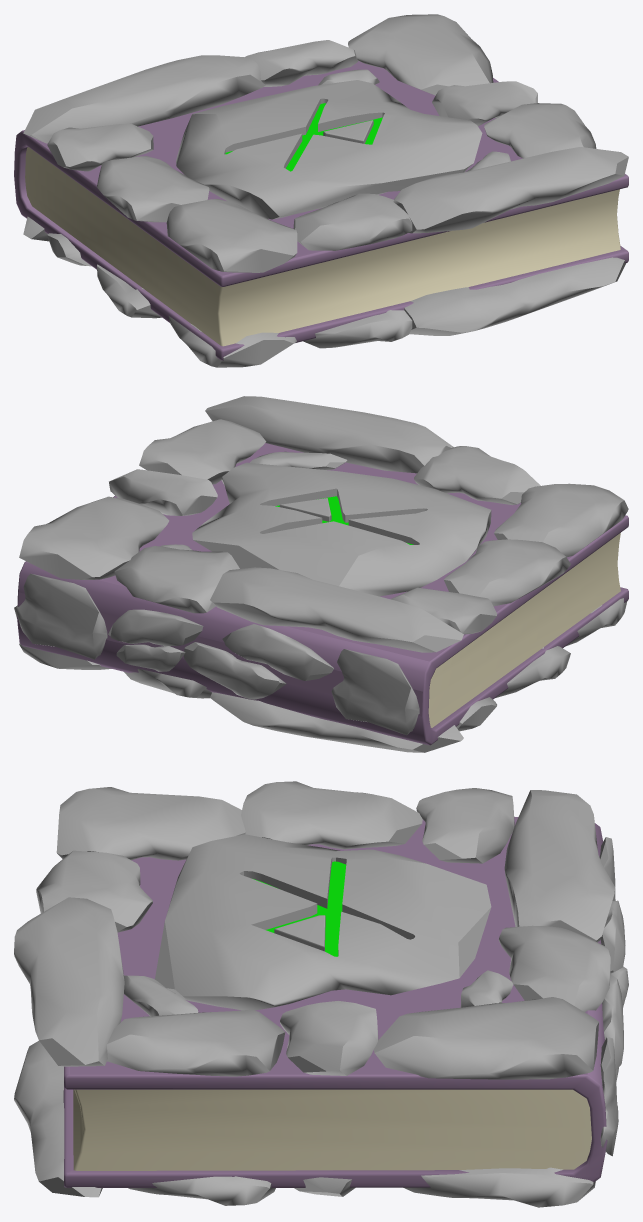
Rendered from Grimoire_close.fbx.
The picture shows the model from 3 angles, top to bottom: view 1: azimuth 30°, elevation 25°; view 2: azimuth 150°, elevation 25°; view 3: azimuth 270°, elevation 25°; orthographic projection. The views are drawn at different scales.
Parts seen in each view (by area): view 1: polySurface30, polySurface2, polySurface3, pCube2; view 2: polySurface30, polySurface3, polySurface2; view 3: polySurface30, polySurface2, polySurface3, pCube2.
Part boxes in pixels (x1=…): polySurface30: x1=23, y1=14, x2=628, y2=367; polySurface2: x1=25, y1=147, x2=620, y2=346; polySurface3: x1=14, y1=61, x2=628, y2=360; pCube2: x1=225, y1=103, x2=382, y2=171; polySurface30: x1=14, y1=396, x2=628, y2=752; polySurface3: x1=17, y1=443, x2=628, y2=745; polySurface2: x1=428, y1=533, x2=620, y2=727; polySurface30: x1=14, y1=781, x2=628, y2=1207; polySurface2: x1=73, y1=1089, x2=591, y2=1170; polySurface3: x1=63, y1=817, x2=607, y2=1187; pCube2: x1=252, y1=861, x2=346, y2=956.
Size of the model in its own units: 22.91 by 6.95 by 21.38.
